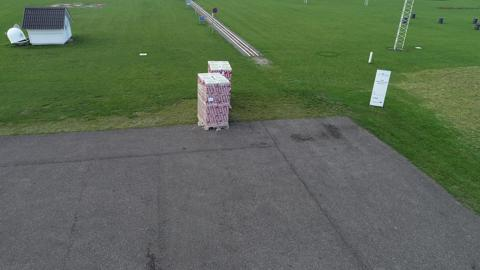RockwoolPallet: (207, 59, 233, 83)
